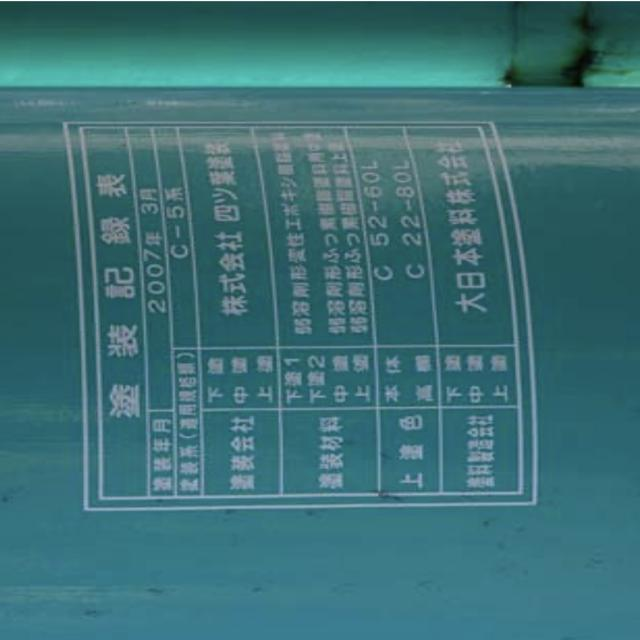corrosion: (507, 14, 637, 93)
